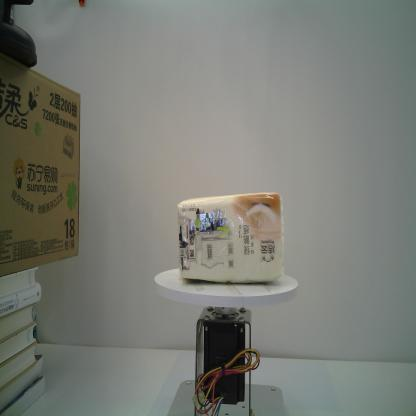Tissue: (174, 187, 288, 286)
